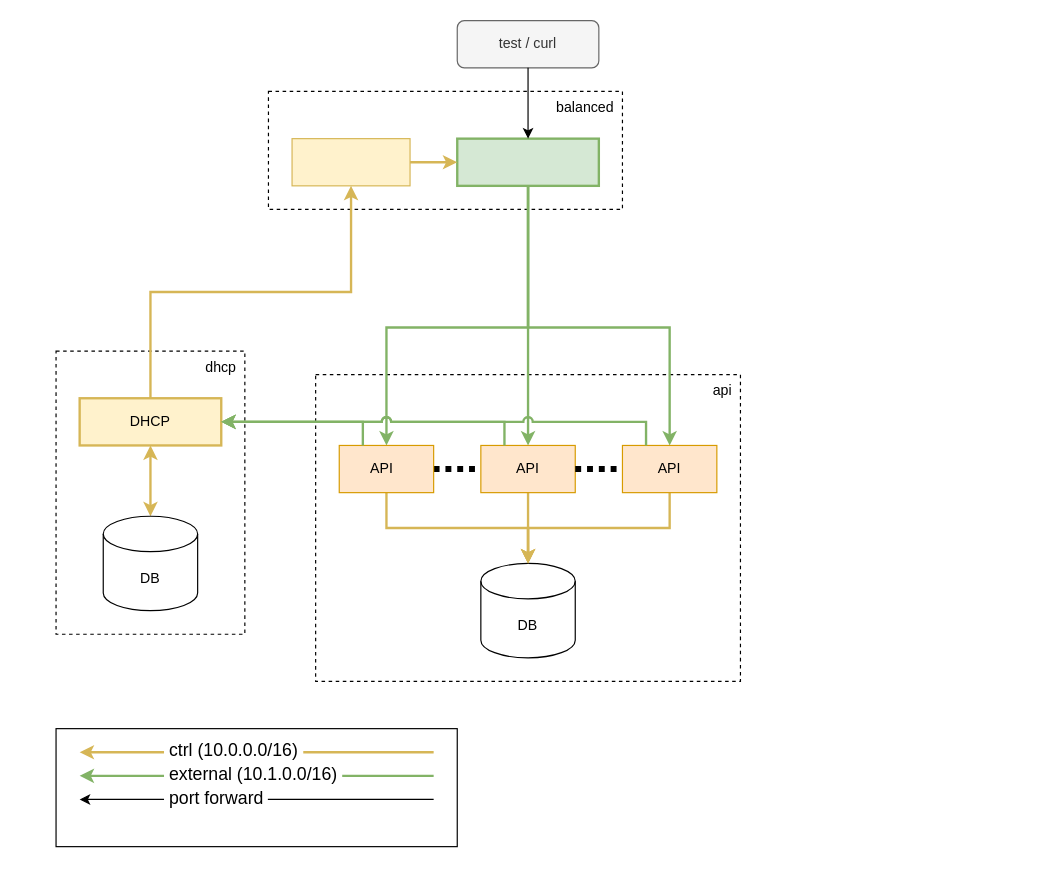
Some shapes in this 1043 by 891 pixel diagram are drawn without their labels. Each missing label, with the centre of its shape:
load balancer: the point at 527,161
Message Bus: the point at 350,161
